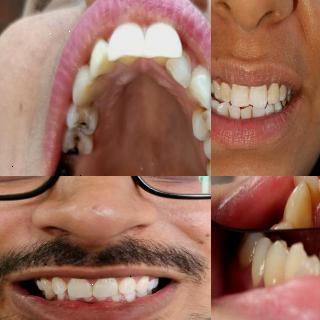cavities: (64, 133, 90, 162), (70, 115, 96, 138), (193, 98, 211, 128), (207, 126, 211, 152)
maligned: (160, 44, 198, 94), (289, 176, 319, 210), (215, 100, 229, 117), (228, 104, 242, 120), (240, 104, 252, 118), (264, 102, 276, 116)
plaque: (221, 84, 232, 100), (270, 84, 280, 95), (280, 84, 288, 94)
stains: (245, 87, 253, 100), (249, 107, 257, 119), (226, 108, 232, 119), (265, 89, 271, 99), (89, 284, 95, 294), (237, 112, 243, 120), (64, 282, 70, 290)
